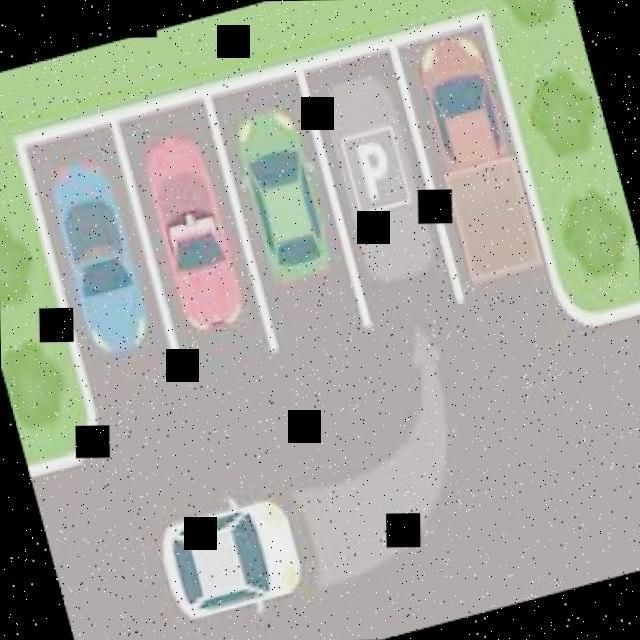car: (406, 32, 565, 325), (40, 153, 162, 371), (136, 120, 250, 342), (150, 486, 316, 632), (230, 92, 338, 294)
free: (306, 54, 464, 329)
